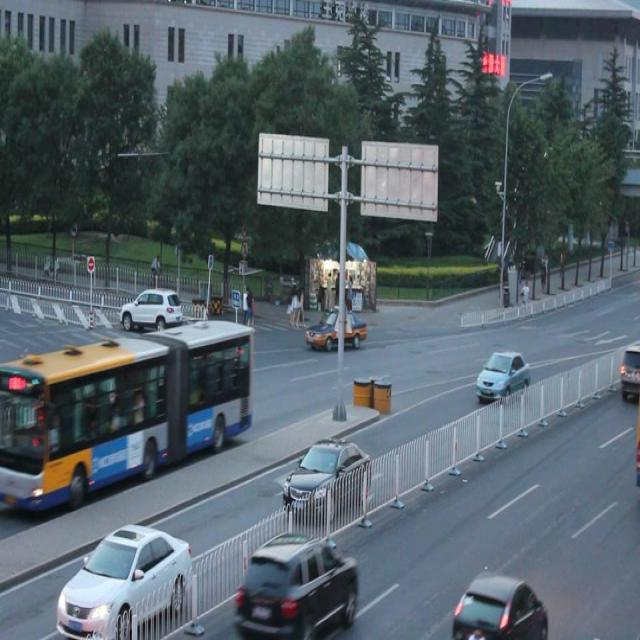car: (57, 518, 192, 640), (239, 530, 358, 633), (284, 435, 370, 519), (452, 570, 549, 640), (474, 346, 528, 402), (307, 306, 364, 352), (124, 288, 180, 334), (615, 342, 640, 402)
van: (1, 316, 252, 516)
